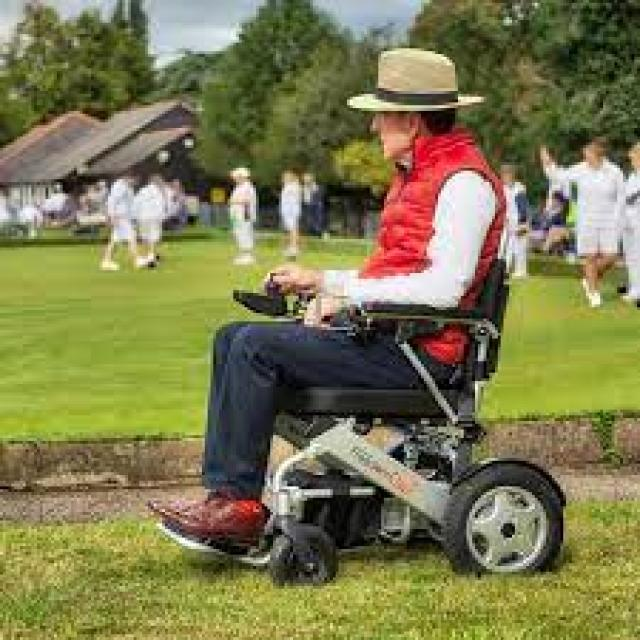wheelchairs: (128, 208, 588, 594)
